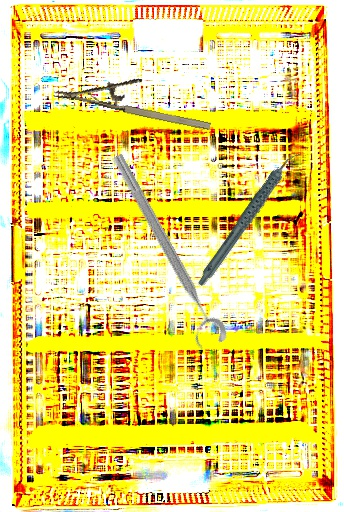Fixation Ring: (96, 150, 231, 354)
Handpiece: (174, 149, 325, 289)
Needle Holder: (52, 59, 218, 135)
